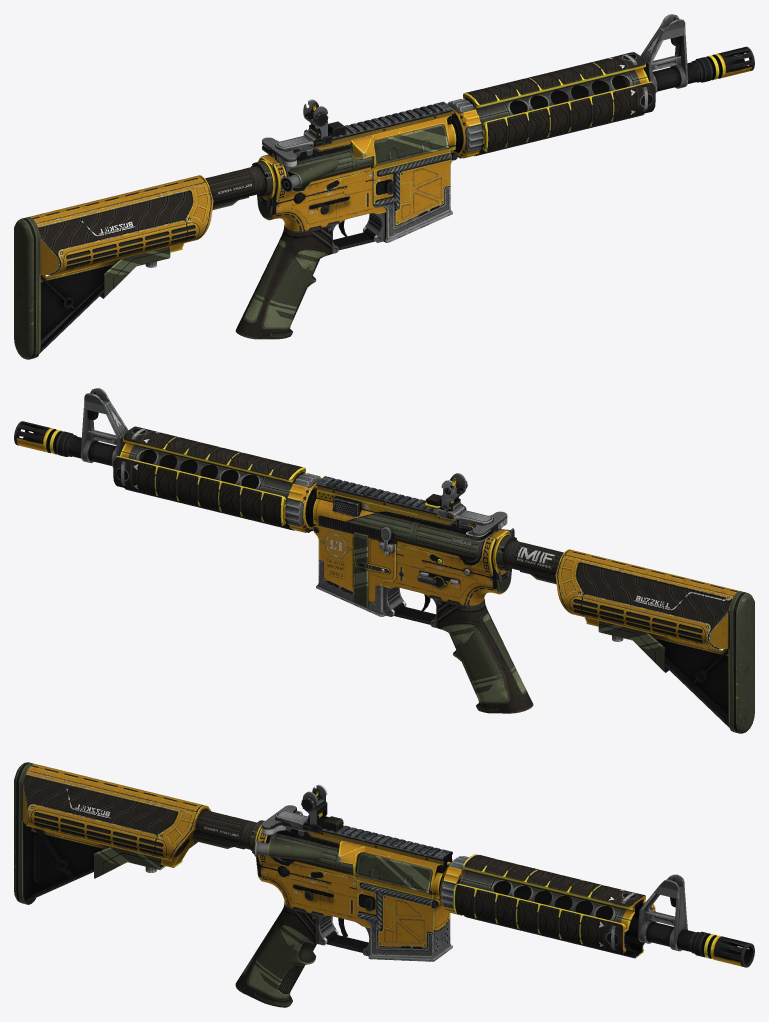
File: w_carbinerifle_sector.glb
3 views of the same model, one above another, from view 1: azimuth 30°, elevation 25°; view 2: azimuth 150°, elevation 25°; view 3: azimuth 330°, elevation 25° (orthographic).
Visible parts, largest first — view 1: Gun_Root; view 2: Gun_Root; view 3: Gun_Root.
Part boxes in pixels (left/top/right/bottom): Gun_Root: left=14, top=14, right=754, bottom=359; Gun_Root: left=14, top=388, right=754, bottom=733; Gun_Root: left=14, top=762, right=754, bottom=1007.
Bounding box in the file's own units: 0.8124 × 0.2386 × 0.0704.
Materials: 1 (1 with a texture image).
